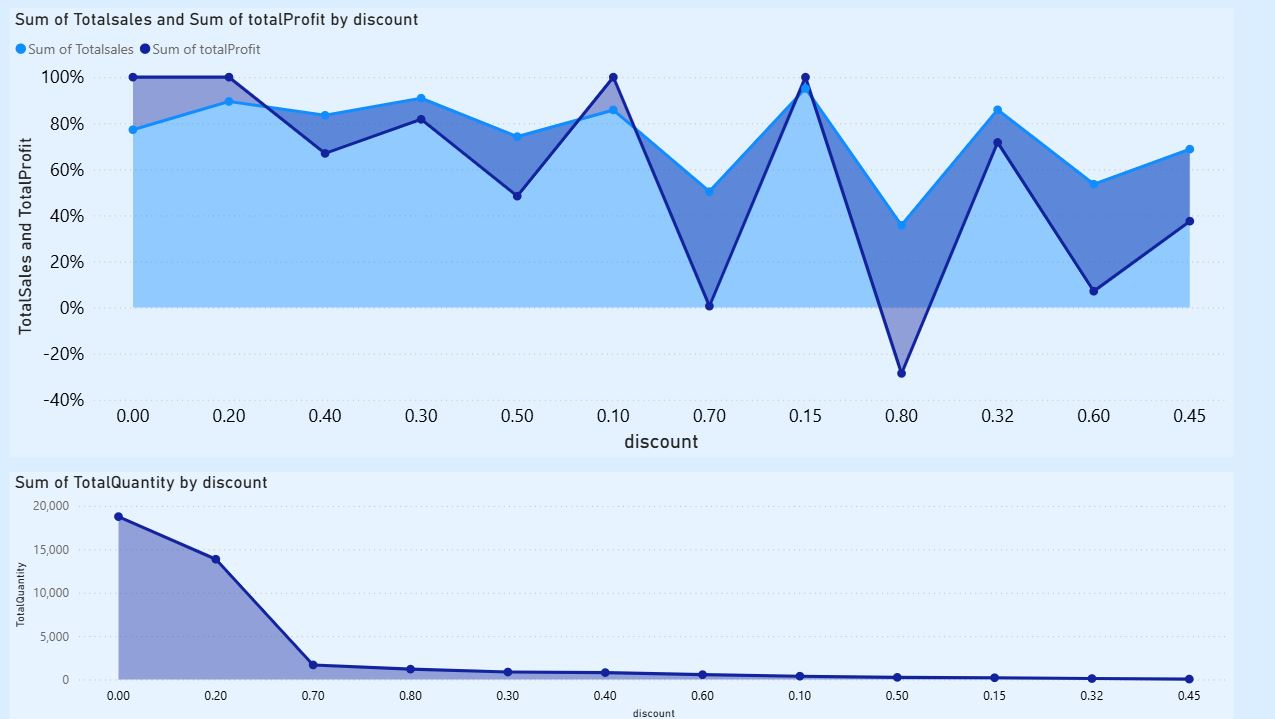

The dashboard page shown, as its layout file describes it:
{"tool":"powerbi","page":{"name":"Discount insight","canvas":[1280,720],"ordinal":6},"visuals":[{"type":"hundredPercentStackedAreaChart","fields":{"Category":["discount.discount"],"Y":["Sum(discount.Totalsales)","Sum(discount.totalProfit)"]},"box":[31.6,19.2,1181.5,433.6],"z":0},{"type":"areaChart","fields":{"Category":["discount.discount"],"Y":["Sum(discount.TotalQuantity)"]},"box":[31.6,466.6,1181.5,244.3],"z":1000}]}

Visuals, with their boxes in screenshot pixels (x1, y1, x2, y2), scaled from the page's 1280x720 canvas onto the 1275x719 screenshot:
hundredPercentStackedAreaChart - discount.discount x Sum(discount.Totalsales): (x1=31, y1=19, x2=1208, y2=452)
areaChart - discount.discount x Sum(discount.TotalQuantity): (x1=31, y1=466, x2=1208, y2=710)
